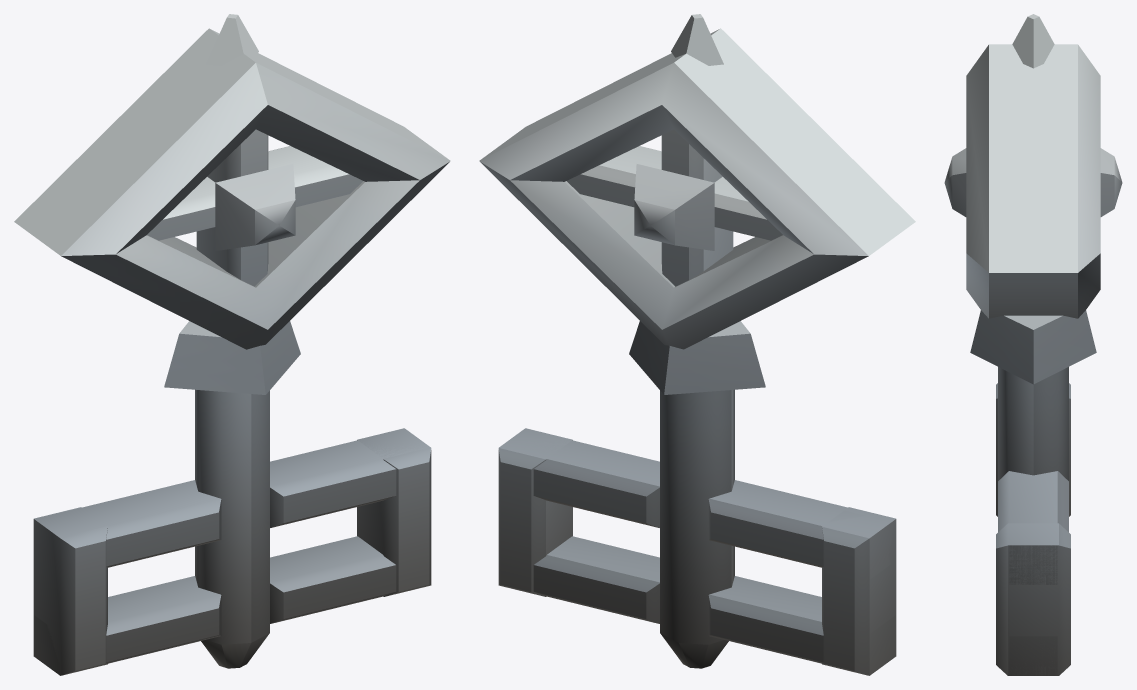
The model's file is key_silver_crypt.glb.
3 renders of one model, left to right at view 1: azimuth 30°, elevation 25°; view 2: azimuth 150°, elevation 25°; view 3: azimuth 270°, elevation 25°, orthographic. The views are drawn at different scales.
Parts seen in each view (by area): view 1: Item; view 2: Item; view 3: Item.
Boxes of the visible parts, bbox=[...] form: Item: bbox=[14, 14, 450, 675]; Item: bbox=[479, 14, 915, 675]; Item: bbox=[944, 14, 1122, 675].
Size of the model in its own units: 0.48 by 0.76 by 0.2.
Materials: 1 (1 with a texture image).
